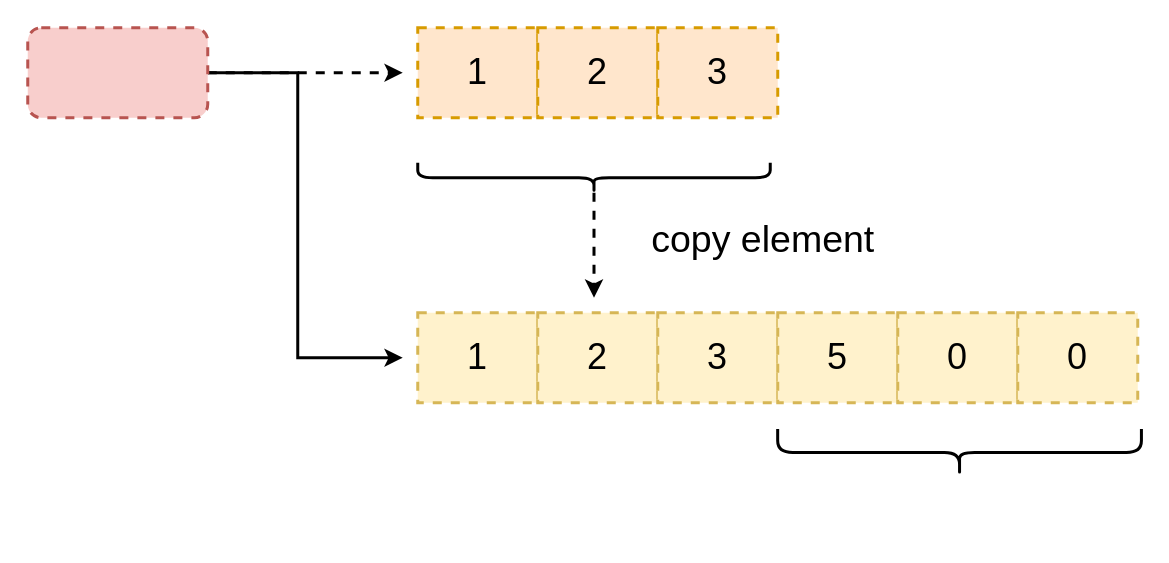
This 1169x563 diagram has some shape labels left out. Each missing label, with the box of its shape:
array: (26, 26, 208, 118)
expansion: (776, 427, 1142, 477)
